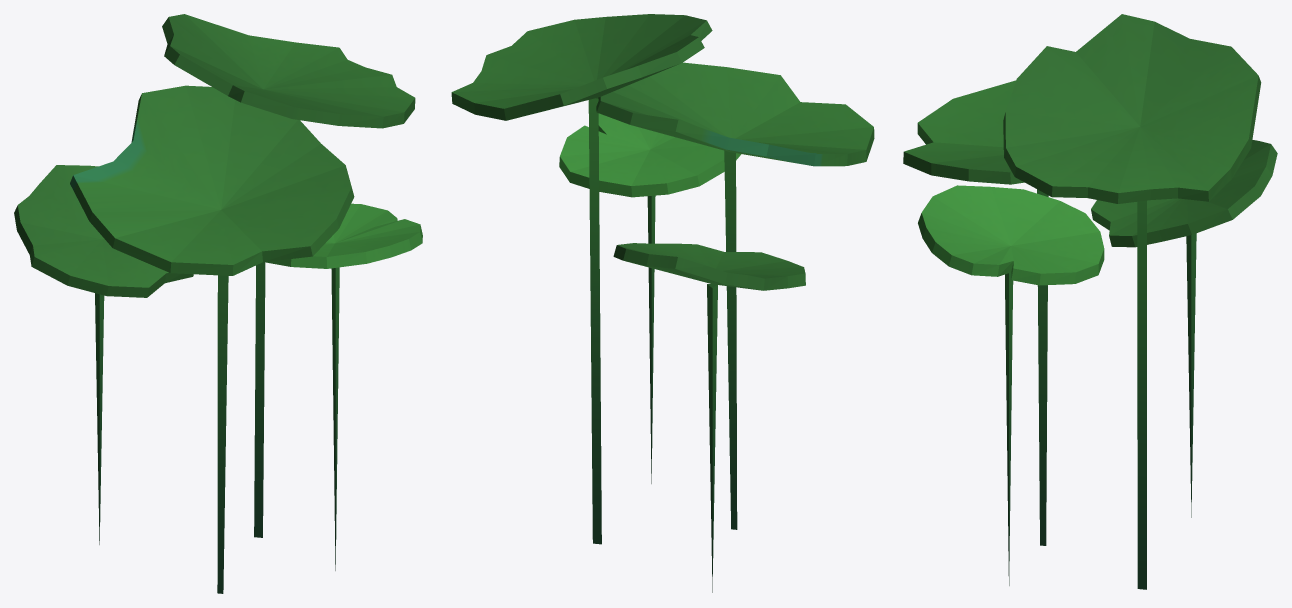
The model's file is ZLP_Grass_E_5.FBX.
3 views of the same model, side by side, from view 1: azimuth 30°, elevation 25°; view 2: azimuth 150°, elevation 25°; view 3: azimuth 270°, elevation 25° (orthographic). The views are drawn at different scales.
Visible parts, largest first — view 1: ZLP_Grass_E_5; view 2: ZLP_Grass_E_5; view 3: ZLP_Grass_E_5.
Part boxes in pixels (x1,y1,x2,y2): ZLP_Grass_E_5: (14, 14, 422, 593); ZLP_Grass_E_5: (451, 14, 874, 592); ZLP_Grass_E_5: (903, 14, 1277, 589).
Size of the model in its own units: 116 by 169 by 108.
